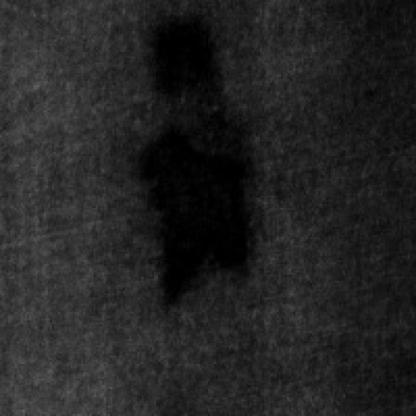patches: (141, 116, 262, 312), (148, 17, 230, 114)
